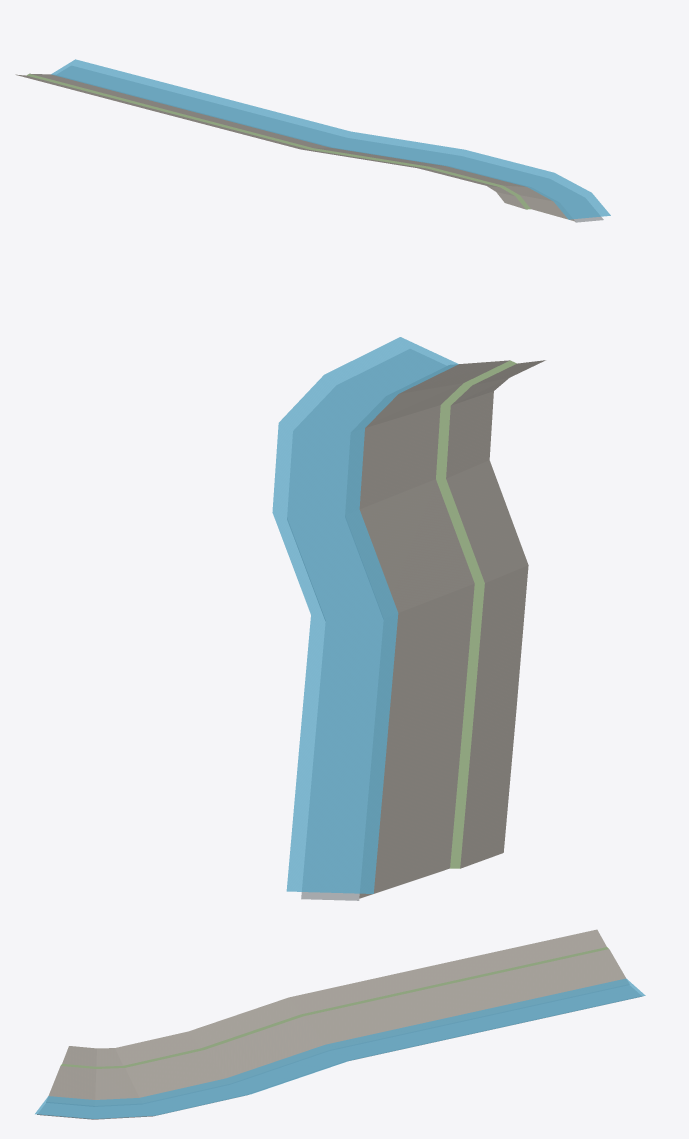
File: corridor-02.glb
The picture shows the model from 3 angles, top to bottom: view 1: azimuth 30°, elevation 25°; view 2: azimuth 150°, elevation 25°; view 3: azimuth 270°, elevation 25°; orthographic projection. The views are drawn at different scales.
Visible parts, largest first — view 1: water_water, concreteDark_terrain, rock_terrain, grass_terrain; view 2: rock_terrain, water_water, concreteDark_terrain, grass_terrain; view 3: rock_terrain, water_water, concreteDark_terrain, grass_terrain.
Part boxes in pixels (left/top/right/bottom): water_water: left=51, top=59, right=610, bottom=219; concreteDark_terrain: left=57, top=66, right=603, bottom=222; rock_terrain: left=15, top=73, right=575, bottom=221; grass_terrain: left=26, top=74, right=530, bottom=209; rock_terrain: left=345, top=360, right=545, bottom=898; water_water: left=272, top=337, right=458, bottom=893; concreteDark_terrain: left=287, top=349, right=445, bottom=900; grass_terrain: left=436, top=360, right=516, bottom=868; rock_terrain: left=47, top=929, right=628, bottom=1105; water_water: left=35, top=978, right=645, bottom=1118; concreteDark_terrain: left=37, top=985, right=642, bottom=1119; grass_terrain: left=60, top=947, right=608, bottom=1068.
Size of the model in its own units: 1237 by 85.1 by 1760.
4 materials, 4 textured.
